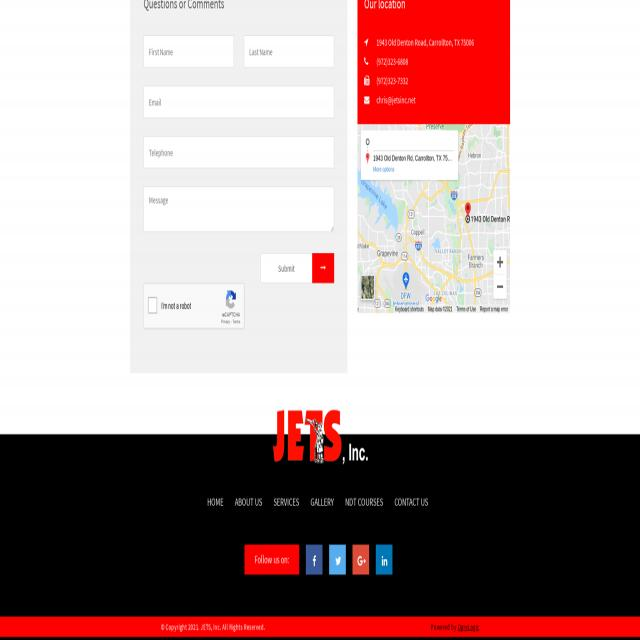button: (270, 406, 370, 467), (260, 253, 334, 283), (306, 545, 322, 574), (329, 545, 345, 574), (353, 545, 369, 574), (376, 545, 392, 574)
field: (144, 185, 333, 232), (143, 85, 334, 118), (143, 136, 334, 168), (143, 36, 234, 68), (244, 36, 334, 68), (148, 297, 156, 313)
